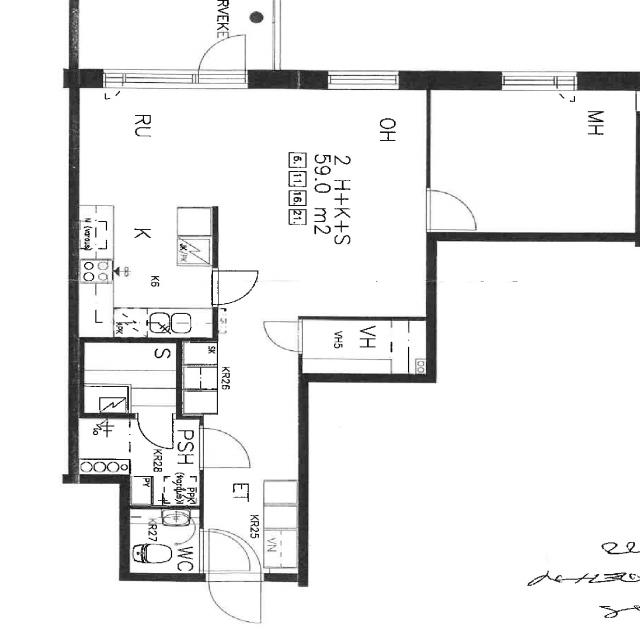door: (198, 29, 245, 87), (208, 530, 260, 582), (208, 574, 260, 626), (198, 531, 250, 570), (198, 428, 249, 467), (426, 190, 477, 229), (212, 270, 258, 304), (137, 412, 173, 448), (264, 322, 304, 351)
